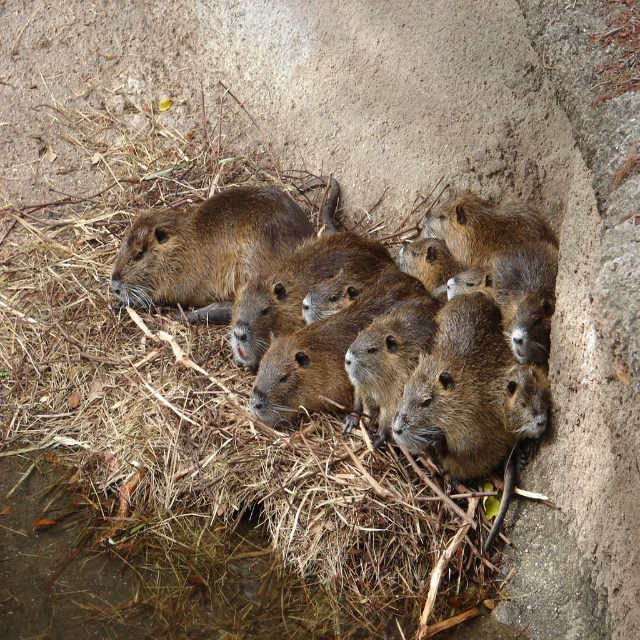Mouse: (390, 274, 556, 532)
